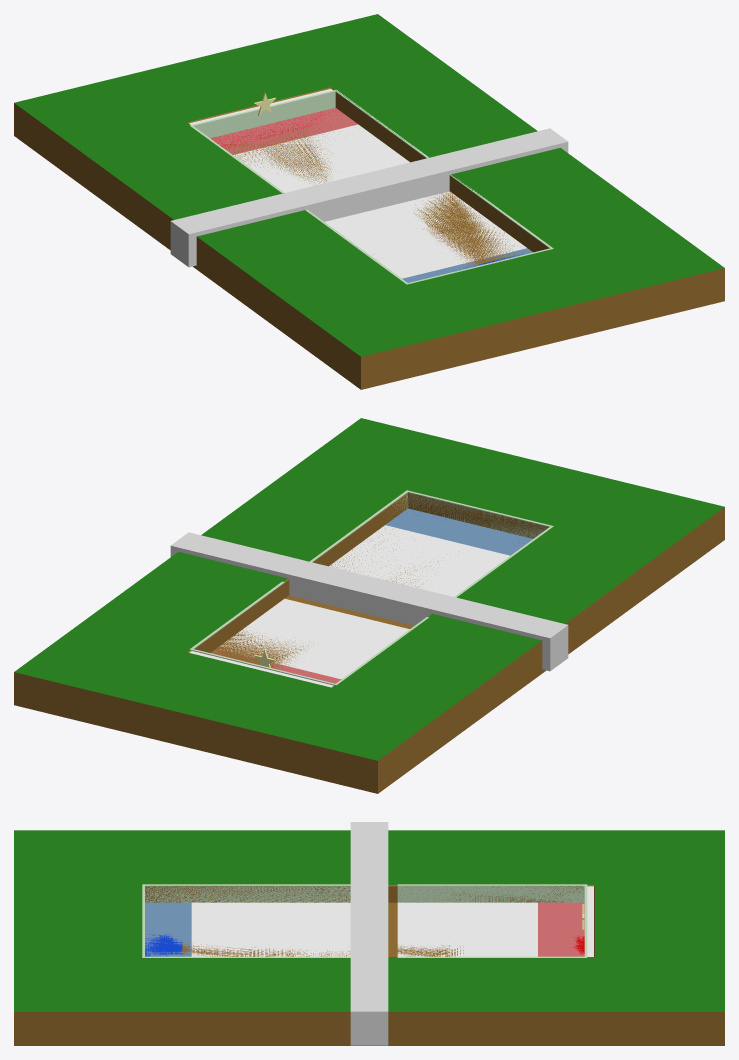
3 renders of one model, top to bottom at view 1: azimuth 30°, elevation 25°; view 2: azimuth 150°, elevation 25°; view 3: azimuth 270°, elevation 25°, orthographic. The views are drawn at different scales.
Parts seen in each view (by area): view 1: Cube, Cube.001, Difference.001, Difference.003, Difference, Difference.004, Difference.002, Difference.005; view 2: Cube, Cube.001, Difference.003, Difference.001, Difference.005, Difference.002, Difference; view 3: Cube, Difference.001, Cube.001, Difference.003, Difference.002, Difference, Difference.004, Difference.005.
Boxes of the visible parts, x1=… form: Cube: x1=14, y1=14, x2=724, y2=389; Cube.001: x1=170, y1=128, x2=568, y2=267; Difference.001: x1=325, y1=191, x2=526, y2=278; Difference.003: x1=189, y1=89, x2=427, y2=192; Difference: x1=190, y1=90, x2=428, y2=193; Difference.004: x1=210, y1=108, x2=357, y2=154; Difference.002: x1=305, y1=174, x2=553, y2=284; Difference.005: x1=402, y1=248, x2=532, y2=282; Cube: x1=14, y1=418, x2=724, y2=793; Cube.001: x1=170, y1=532, x2=568, y2=671; Difference.003: x1=189, y1=598, x2=409, y2=687; Difference.001: x1=329, y1=525, x2=509, y2=596; Difference.005: x1=385, y1=508, x2=532, y2=555; Difference.002: x1=310, y1=490, x2=553, y2=597; Difference: x1=190, y1=581, x2=428, y2=685; Cube: x1=14, y1=830, x2=724, y2=1045; Difference.001: x1=191, y1=902, x2=350, y2=956; Cube.001: x1=350, y1=822, x2=388, y2=1045; Difference.003: x1=397, y1=886, x2=593, y2=956; Difference.002: x1=142, y1=884, x2=350, y2=957; Difference: x1=397, y1=884, x2=587, y2=957; Difference.004: x1=538, y1=902, x2=584, y2=956; Difference.005: x1=145, y1=902, x2=191, y2=956.
Size of the model in its own units: 4800 by 600 by 7600.
